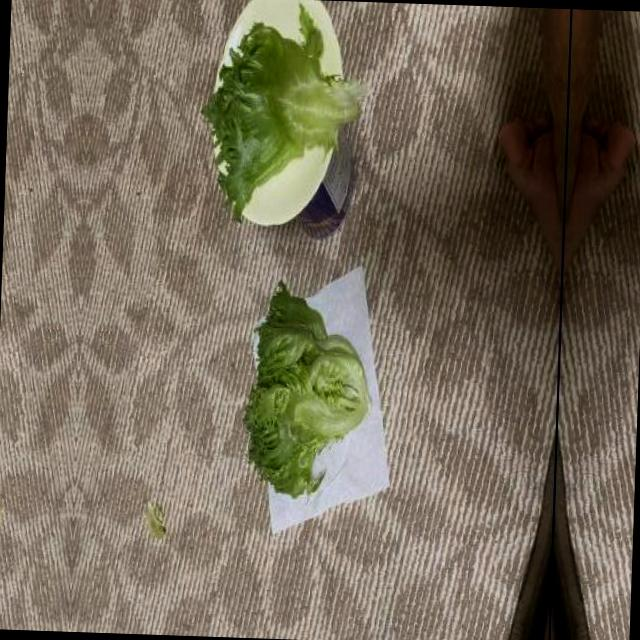healthy: (195, 0, 364, 233), (237, 275, 374, 506)
